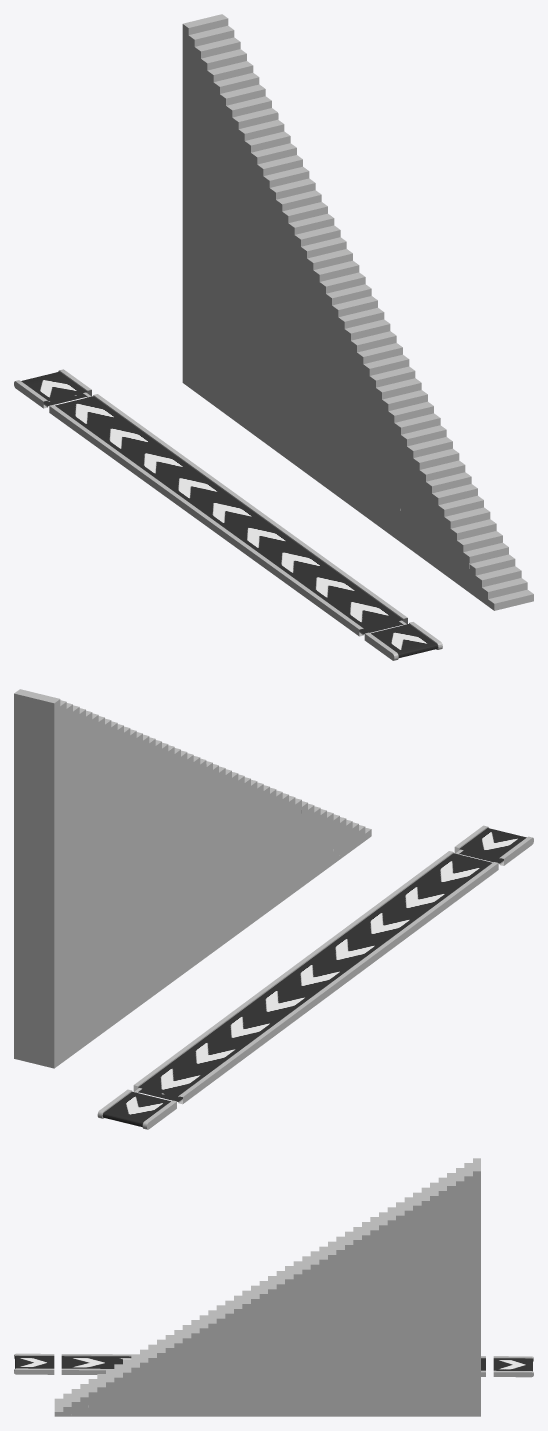
File: stairs_parçalı_1.0.fbx
The picture shows the model from 3 angles, top to bottom: view 1: azimuth 30°, elevation 25°; view 2: azimuth 150°, elevation 25°; view 3: azimuth 270°, elevation 25°; orthographic projection. The views are drawn at different scales.
Parts seen in each view (by area): view 1: Cube.003, Cube, Cube.001, Cube.002; view 2: Cube.003, Cube, Cube.002, Cube.001; view 3: Cube.003, Cube, Cube.001, Cube.002.
Part boxes in pixels (x1,y1,x2,y2): Cube.003: (182,14,533,610); Cube: (49,394,407,636); Cube.001: (364,622,442,660); Cube.002: (14,369,91,408); Cube.003: (14,689,371,1068); Cube: (133,851,498,1104); Cube.002: (97,1089,176,1129); Cube.001: (454,825,533,865); Cube.003: (54,1158,480,1416); Cube: (61,1354,485,1376); Cube.001: (14,1353,54,1374); Cube.002: (493,1356,533,1377).
Bounding box in the file's own units: 11828 × 24020 × 45979.
